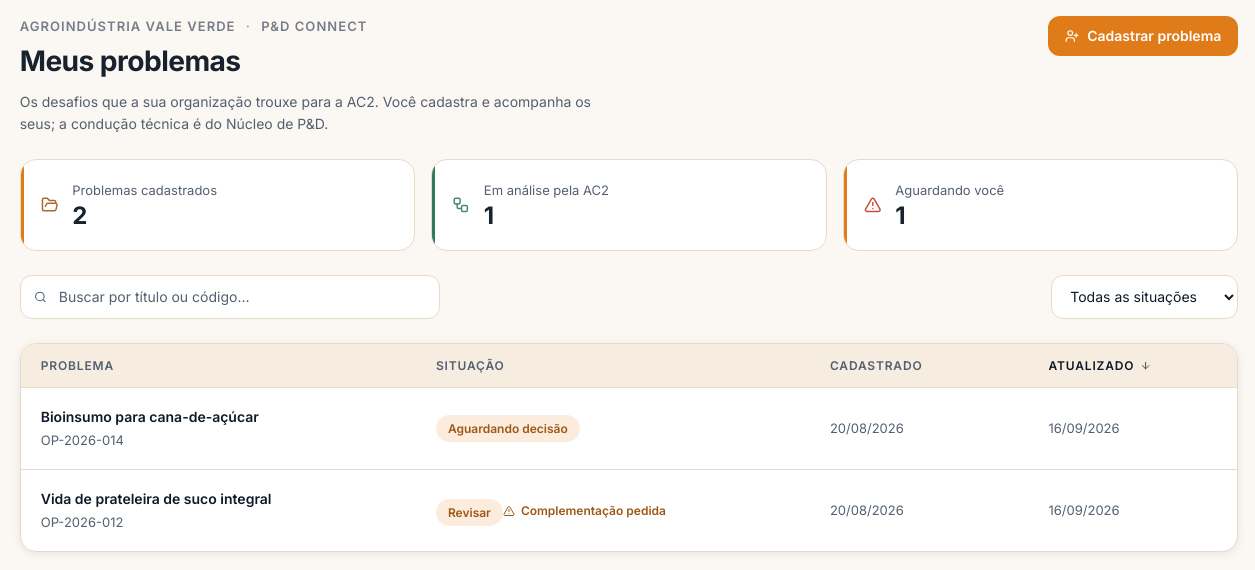
Scenario: ProblemasPage › filtra por título e por código
Expected: the text "Bioinsumo para cana-de-açúcar" is shown, [41,408,259,425]
Type "OP-2026-012" into the search field named "buscar problemas" at (230, 296), box [20,274,440,318]
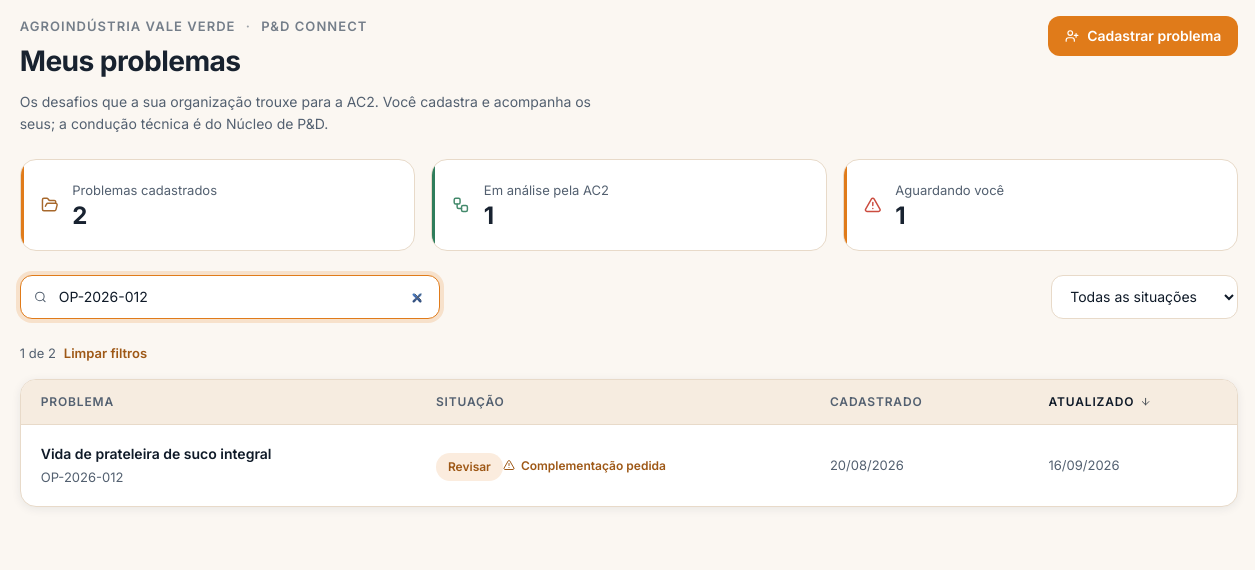
Expected: the text "Vida de prateleira de suco integral" is shown, [41,444,272,462]
Expected: the link "Bioinsumo para cana-de-açúcar" is gone
